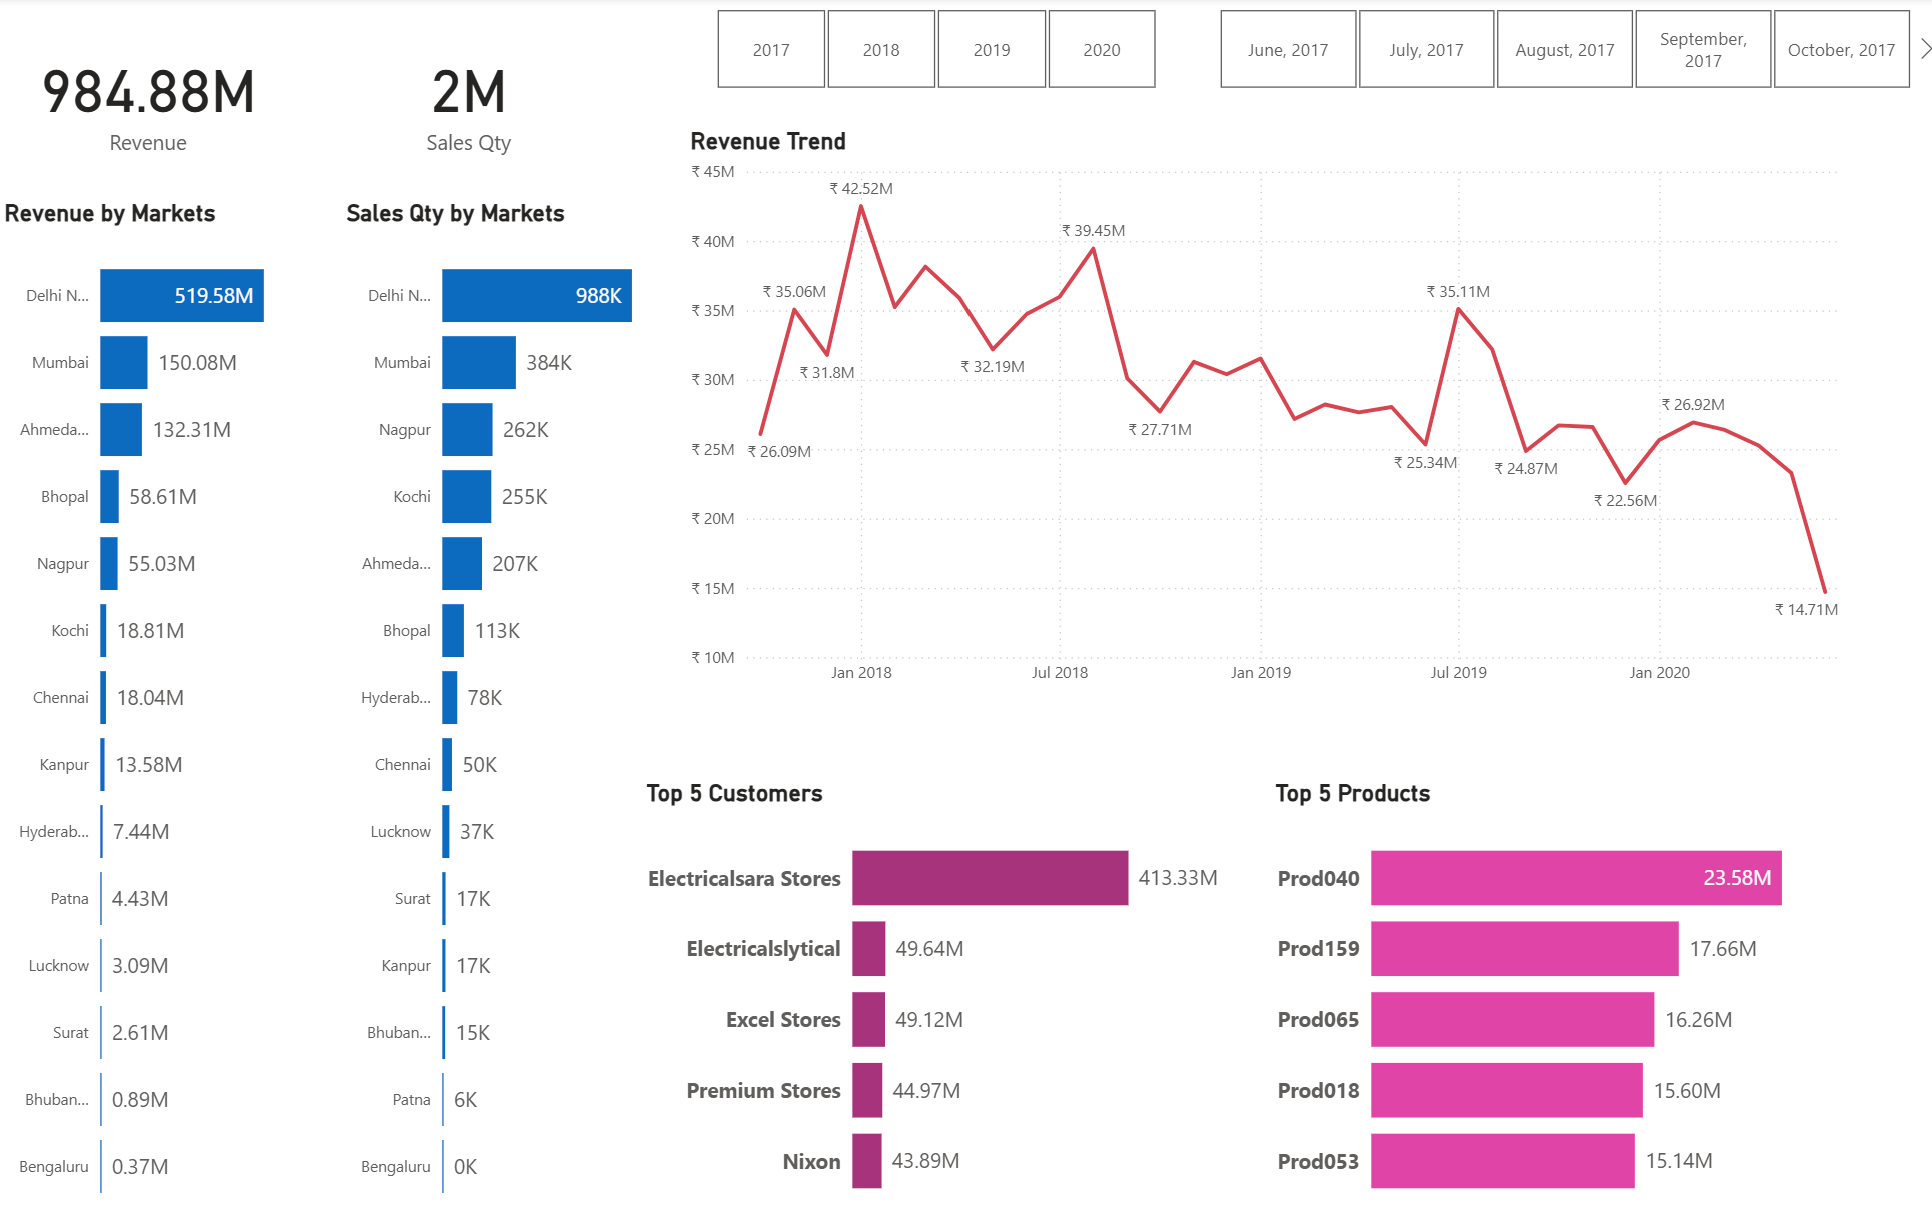

The page's visual inventory and layout, read from the dashboard file:
{"tool":"powerbi","page":{"name":"Page 1","canvas":[1500,950],"ordinal":0},"visuals":[{"type":"card","fields":{"Values":["BaseMeasures.Revenue"]},"box":[0,0,231.7,156],"z":0},{"type":"card","fields":{"Values":["BaseMeasures.Sales Qty"]},"box":[231.5,0,263.8,156.1],"z":1000},{"type":"barChart","title":"Revenue by Markets","fields":{"Y":["BaseMeasures.Revenue"],"Category":["sales markets.markets_name"]},"box":[0,156,265.7,794],"z":2000},{"type":"barChart","title":"Sales Qty by Markets","fields":{"Y":["BaseMeasures.Sales Qty"],"Category":["sales markets.markets_name"]},"box":[264.1,156,265.7,794],"z":3000},{"type":"slicer","fields":{"Values":["sales date.year"]},"box":[529.8,3.1,387.7,74.1],"z":4000},{"type":"slicer","fields":{"Values":["sales date.cy_date"]},"box":[917.6,3.1,582.4,74.1],"z":5000},{"type":"barChart","title":"Top 5 Customers","fields":{"Y":["BaseMeasures.Revenue"],"Category":["sales customers.custmer_name"]},"box":[495.2,604.7,455.7,344.5],"z":6000},{"type":"barChart","title":"Top 5 Products","fields":{"Y":["BaseMeasures.Revenue"],"Category":["sales products.product_code"]},"box":[981.5,604.7,455.7,344.5],"z":7000},{"type":"lineChart","title":"Revenue Trend","fields":{"Y":["BaseMeasures.Revenue"],"Category":["sales date.cy_date"]},"box":[529.3,100.5,909.7,439.6],"z":8000}]}

Visuals, with their boxes in screenshot pixels (x1, y1, x2, y2), scaled from the page's 1500x950 canvas onto the 1932x1224 screenshot:
card - BaseMeasures.Revenue: 0, 0, 298, 201
card - BaseMeasures.Sales Qty: 298, 0, 638, 201
"Revenue by Markets" barChart: 0, 201, 342, 1223
"Sales Qty by Markets" barChart: 340, 201, 682, 1223
slicer - sales date.year: 682, 4, 1182, 99
slicer - sales date.cy_date: 1182, 4, 1931, 99
"Top 5 Customers" barChart: 638, 779, 1225, 1223
"Top 5 Products" barChart: 1264, 779, 1851, 1223
"Revenue Trend" lineChart: 682, 129, 1853, 696
